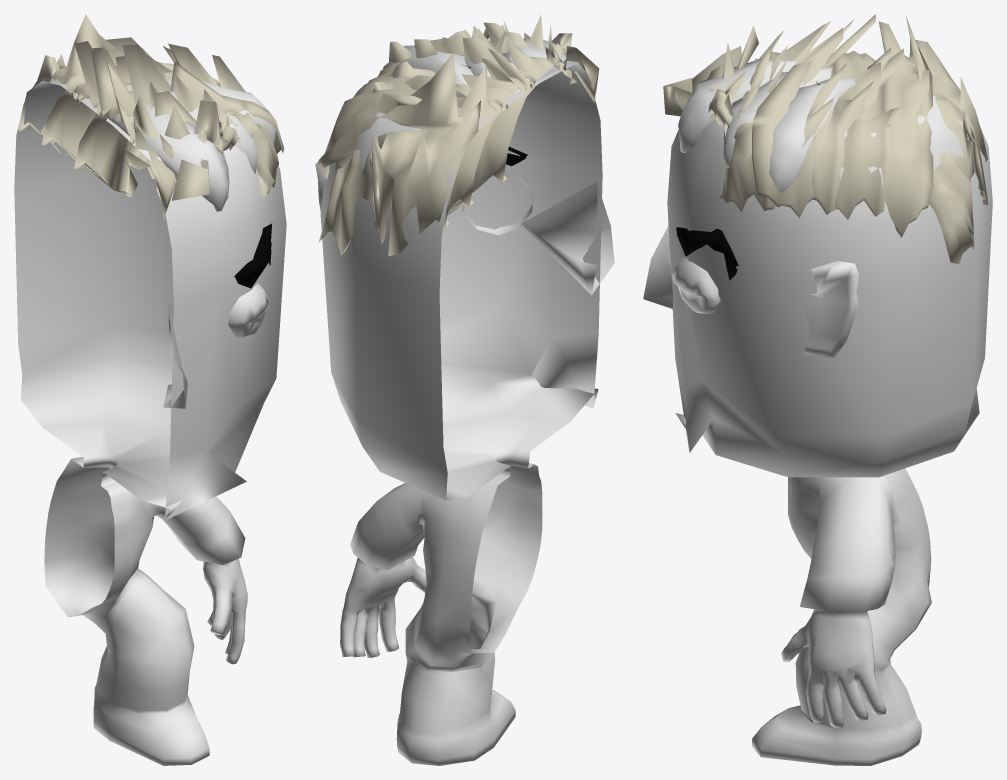
File: Druid.dae
3 views of the same model, side by side, from view 1: azimuth 30°, elevation 25°; view 2: azimuth 150°, elevation 25°; view 3: azimuth 270°, elevation 25° (orthographic). The views are drawn at different scales.
Visible parts, largest first — view 1: Circle, empty_pelo, empty_pelo_001; view 2: Circle, empty_pelo, empty_pelo_001; view 3: Circle, empty_pelo, empty_pelo_001.
Part boxes in pixels (x1,y1,x2,y2): Circle: (14,78,286,765); empty_pelo: (18,14,284,220); empty_pelo_001: (96,77,275,211); Circle: (315,61,614,765); empty_pelo: (317,14,599,256); empty_pelo_001: (383,39,566,98); Circle: (643,95,992,765); empty_pelo: (663,14,988,264); empty_pelo_001: (678,58,855,192).
Bounding box in the file's own units: 2.64 × 4.12 × 9.32.
